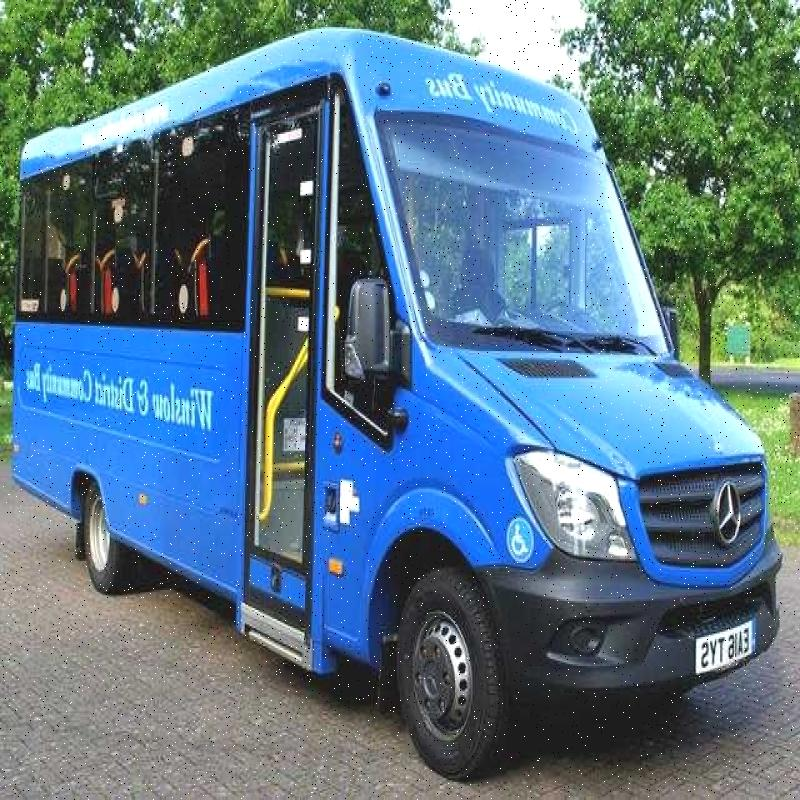bus: (16, 35, 788, 778)
